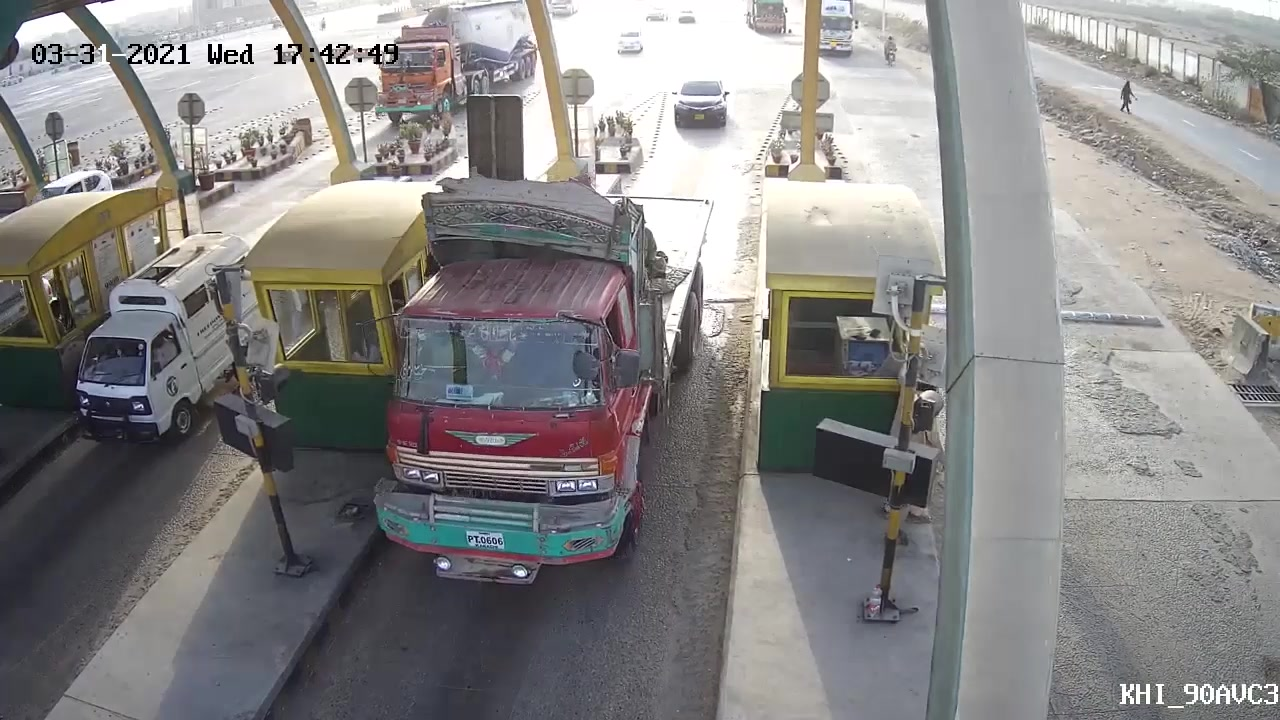F5: (375, 156, 720, 589)
